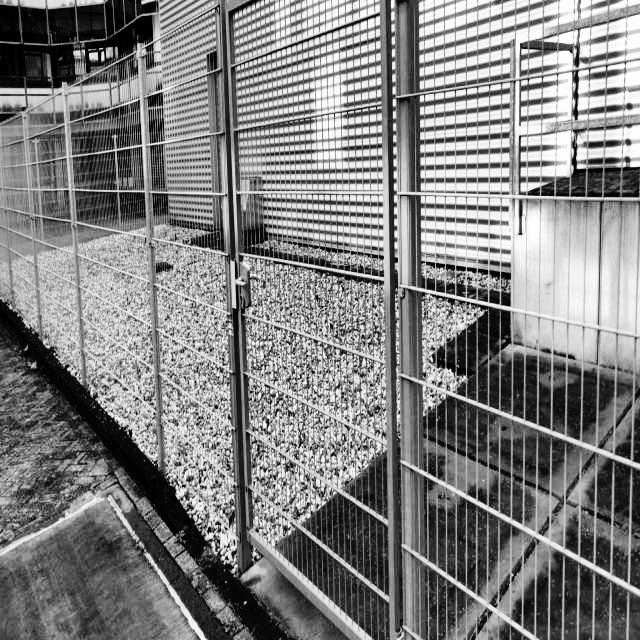fences: (248, 6, 640, 626), (32, 26, 214, 406)
